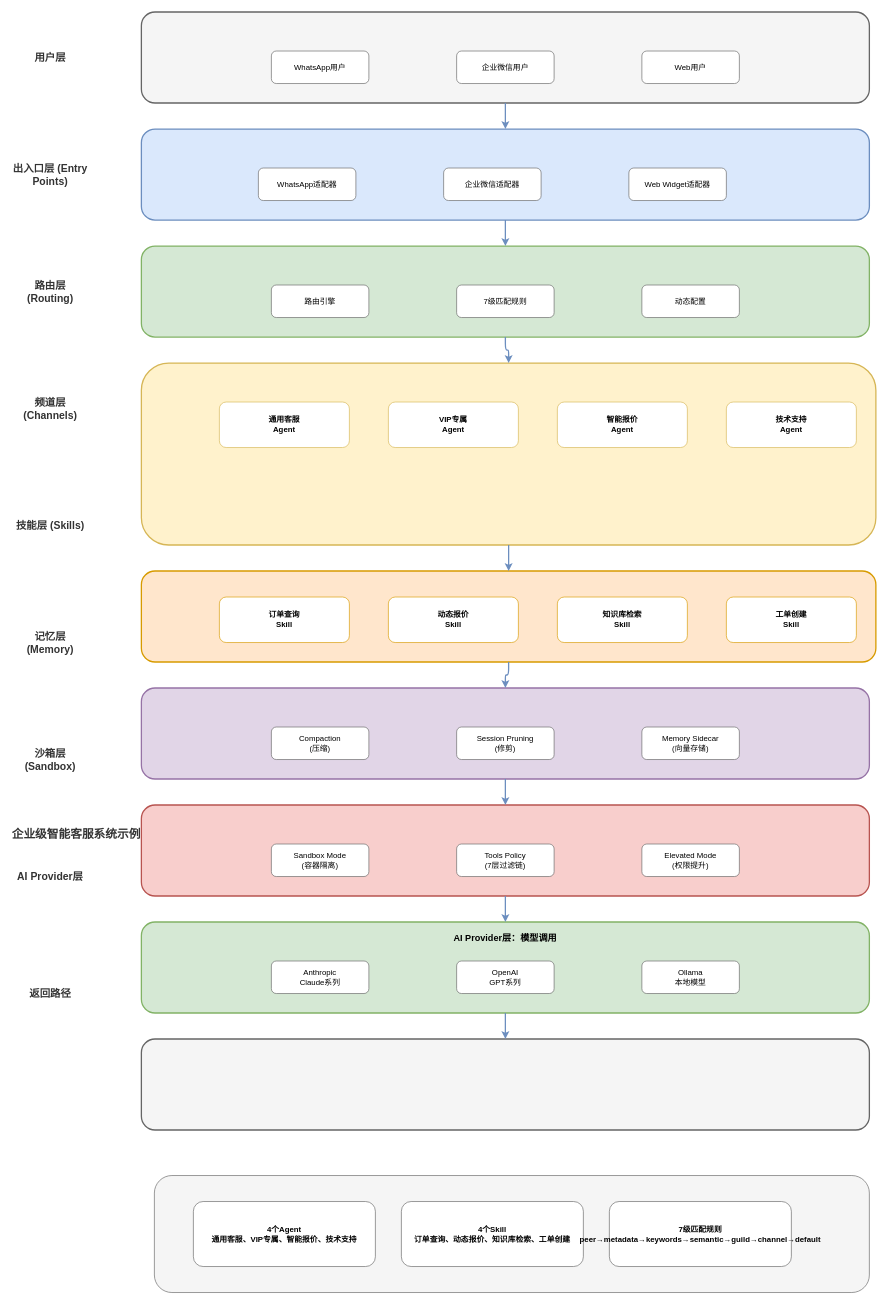
Image size: 887x1304. Some labels were removed from this diagram. Here are the shapes that lost their labels. From the top down, the box of each, then its label:
(140, 11, 870, 103): 用户请求入口
(140, 128, 870, 220): 出入口层：协议转换与标准化
(140, 245, 870, 337): 路由层：7级匹配规则引擎
(140, 362, 876, 545): 频道层：上下文隔离容器
(140, 570, 876, 662): 技能层：声明式能力单元
(140, 687, 870, 779): 记忆层：持久化知识管理
(140, 804, 870, 896): 沙箱层：安全隔离机制
(140, 1038, 870, 1130): 返回路径：结果返回用户
